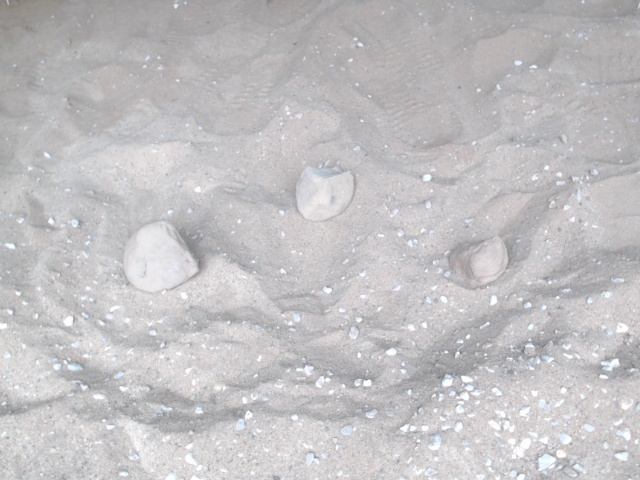rock: (119, 215, 204, 298), (292, 161, 358, 224), (445, 233, 511, 292)
